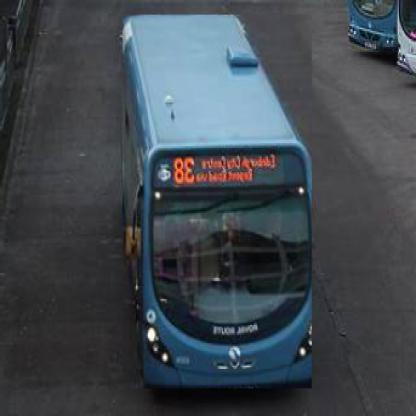bus: (122, 16, 313, 391)
